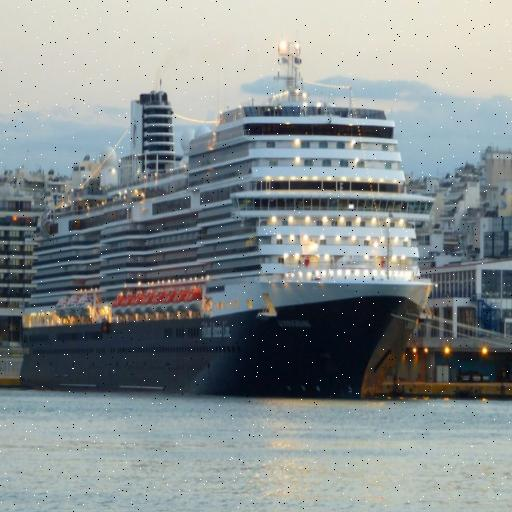cruises: (19, 80, 432, 405)
